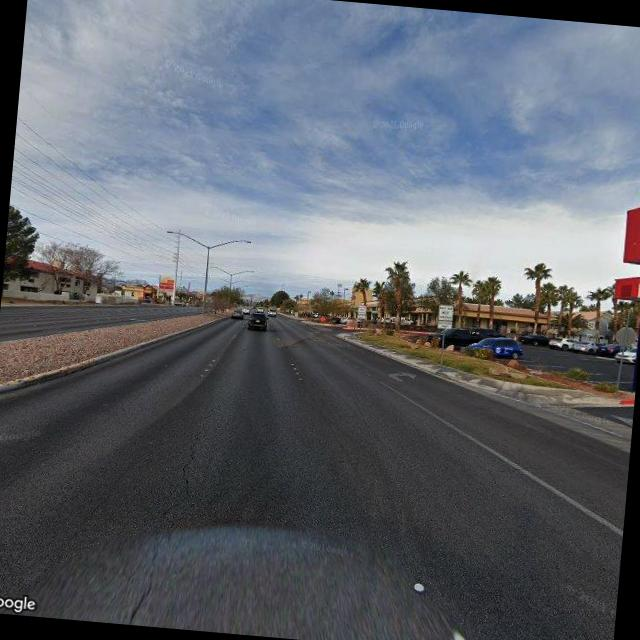pothole: (173, 394, 217, 503)
